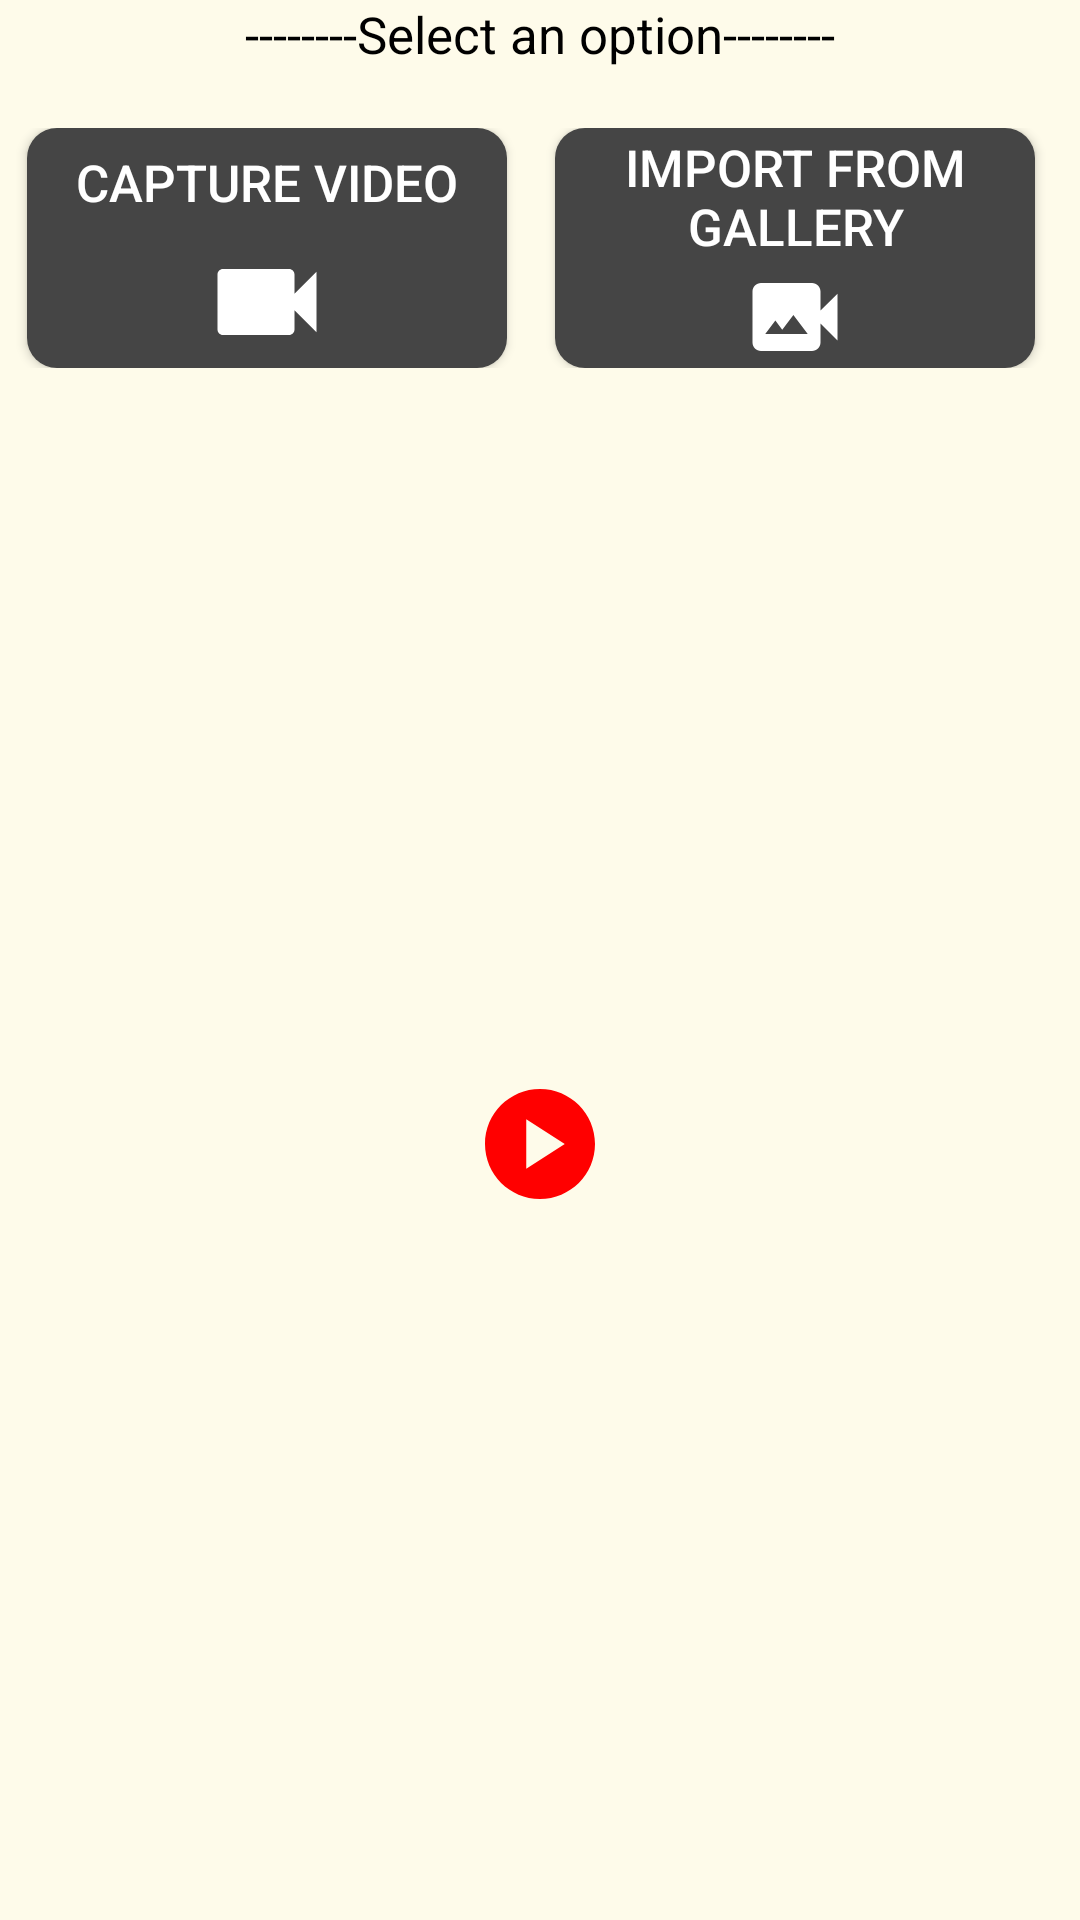

Icon click points for this 1080x1920 phone screenshot, format point (x, y):
play: point (540, 1144)
